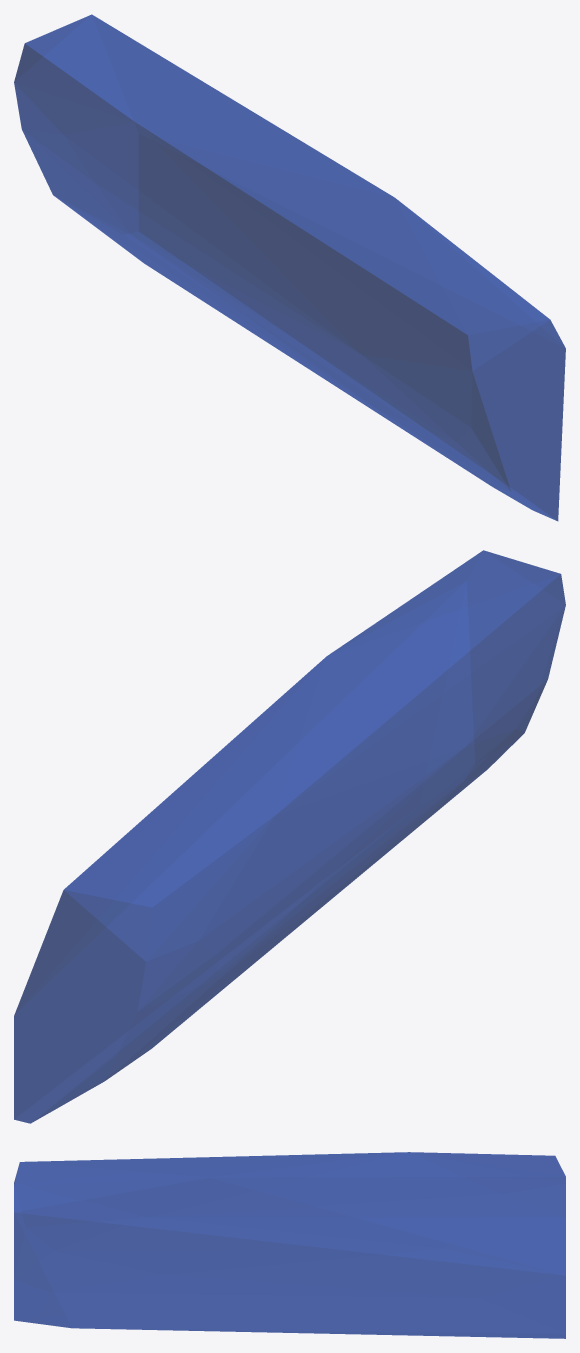
3 views of the same model, one above another, from view 1: azimuth 30°, elevation 25°; view 2: azimuth 150°, elevation 25°; view 3: azimuth 270°, elevation 25° (orthographic). The views are drawn at different scales.
Parts seen in each view (by area): view 1: Shape_IndexedFaceSet.019_Shape_IndexedFaceSet.18242; view 2: Shape_IndexedFaceSet.019_Shape_IndexedFaceSet.18242; view 3: Shape_IndexedFaceSet.019_Shape_IndexedFaceSet.18242.
Part boxes in pixels (x1,y1,x2,y2): Shape_IndexedFaceSet.019_Shape_IndexedFaceSet.18242: (14,14,565,521); Shape_IndexedFaceSet.019_Shape_IndexedFaceSet.18242: (14,550,565,1123); Shape_IndexedFaceSet.019_Shape_IndexedFaceSet.18242: (14,1152,565,1338).
Size of the model in its own units: 0.0862 by 0.1587 by 0.5119.
